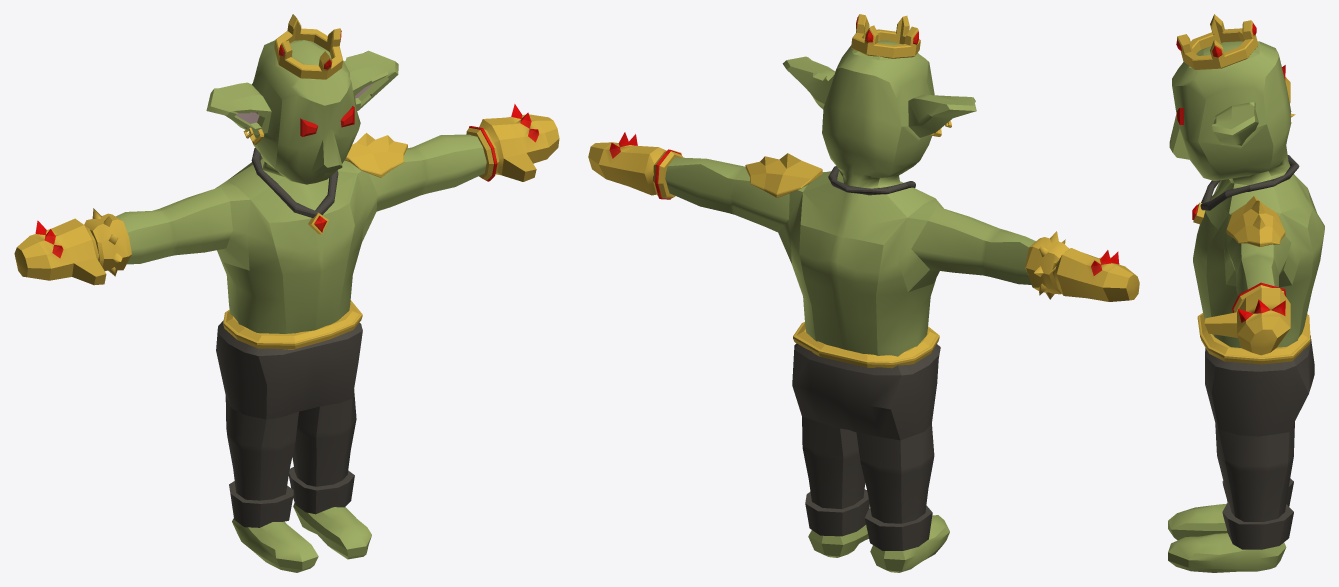
Rendered from boss.fbx.
The picture shows the model from 3 angles, left to right: view 1: azimuth 30°, elevation 25°; view 2: azimuth 150°, elevation 25°; view 3: azimuth 270°, elevation 25°; orthographic projection.
Parts seen in each view (by area): view 1: boss_body, pants, gauntlets, feet, crown, belt, wristGuard, shoulderGuard, chain, otherWrist; view 2: boss_body, pants, gauntlets, feet, belt, shoulderGuard, crown, wristGuard, chain, otherWrist; view 3: boss_body, pants, feet, gauntlets, crown, shoulderGuard, belt, chain, otherWrist.
Boxes of the visible parts, x1=… form: boss_body: x1=116, y1=40, x2=486, y2=333; pants: x1=216, y1=320, x2=362, y2=527; gauntlets: x1=14, y1=104, x2=559, y2=285; feet: x1=232, y1=503, x2=371, y2=572; crown: x1=274, y1=14, x2=343, y2=79; belt: x1=223, y1=300, x2=362, y2=349; wristGuard: x1=84, y1=208, x2=131, y2=276; shoulderGuard: x1=344, y1=133, x2=407, y2=177; chain: x1=251, y1=148, x2=338, y2=217; otherWrist: x1=466, y1=126, x2=499, y2=181; boss_body: x1=665, y1=40, x2=1035, y2=356; pants: x1=792, y1=343, x2=940, y2=550; gauntlets: x1=588, y1=132, x2=1139, y2=301; feet: x1=808, y1=505, x2=949, y2=572; belt: x1=793, y1=322, x2=939, y2=368; shoulderGuard: x1=745, y1=153, x2=822, y2=197; crown: x1=851, y1=14, x2=920, y2=58; wristGuard: x1=1025, y1=231, x2=1069, y2=299; chain: x1=828, y1=166, x2=915, y2=195; otherWrist: x1=653, y1=149, x2=683, y2=199; boss_body: x1=1169, y1=41, x2=1324, y2=347; pants: x1=1205, y1=335, x2=1314, y2=549; feet: x1=1168, y1=503, x2=1286, y2=572; gauntlets: x1=1204, y1=65, x2=1290, y2=355; crown: x1=1176, y1=14, x2=1258, y2=69; shoulderGuard: x1=1226, y1=196, x2=1285, y2=246; belt: x1=1197, y1=313, x2=1310, y2=364; chain: x1=1200, y1=155, x2=1299, y2=210; otherWrist: x1=1232, y1=282, x2=1286, y2=312.
Bounding box in the file's own units: 247 × 231 × 62.01.
